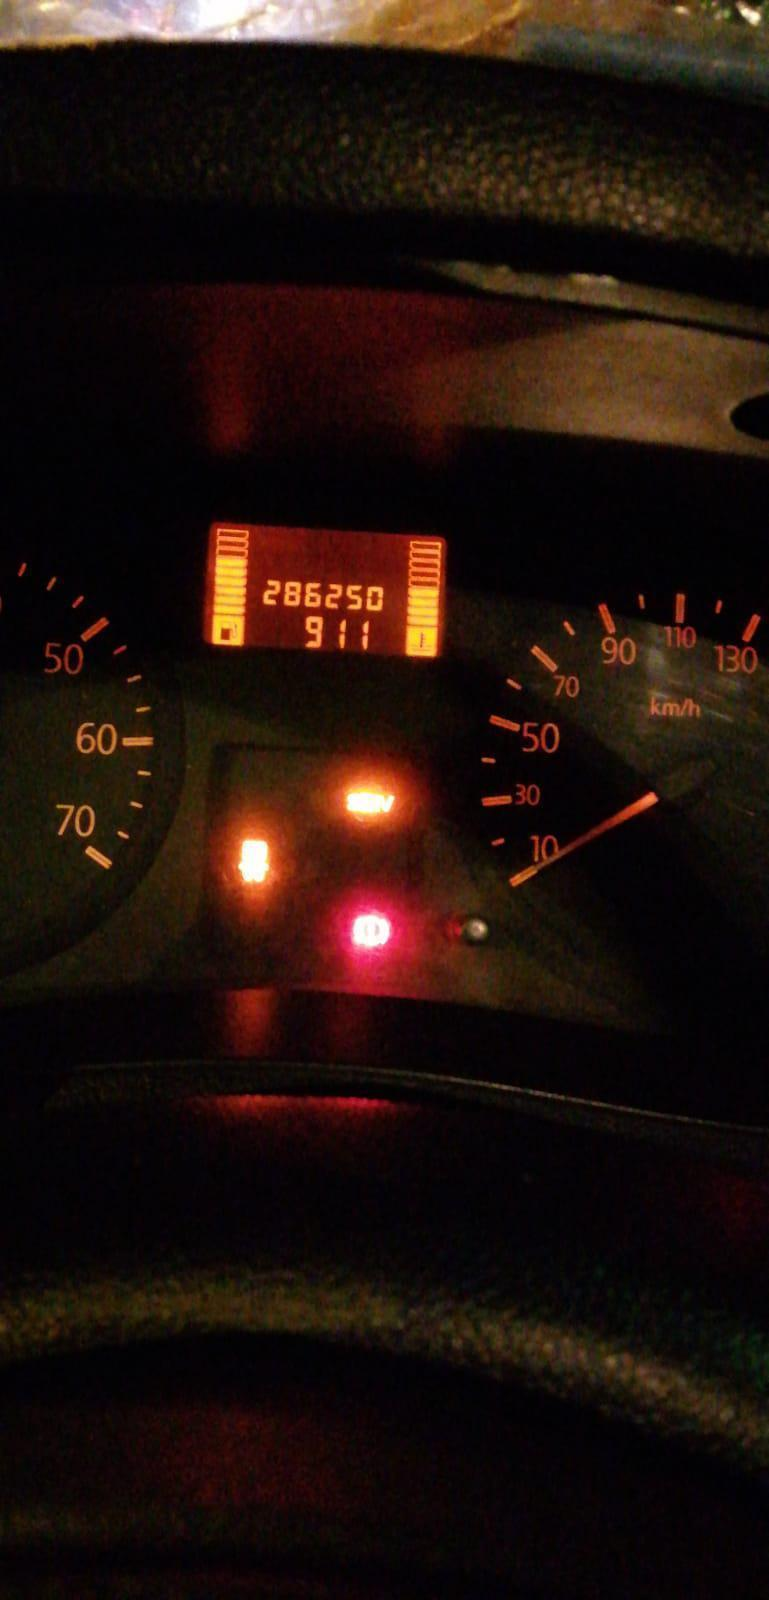0: (365, 585, 385, 611)
1: (337, 618, 347, 648), (360, 620, 369, 651)
2: (262, 578, 281, 605), (324, 583, 342, 609)
5: (344, 584, 362, 610)
6: (303, 582, 322, 607)
8: (281, 581, 301, 606)
9: (303, 615, 324, 648)
odometer: (198, 519, 449, 661)
